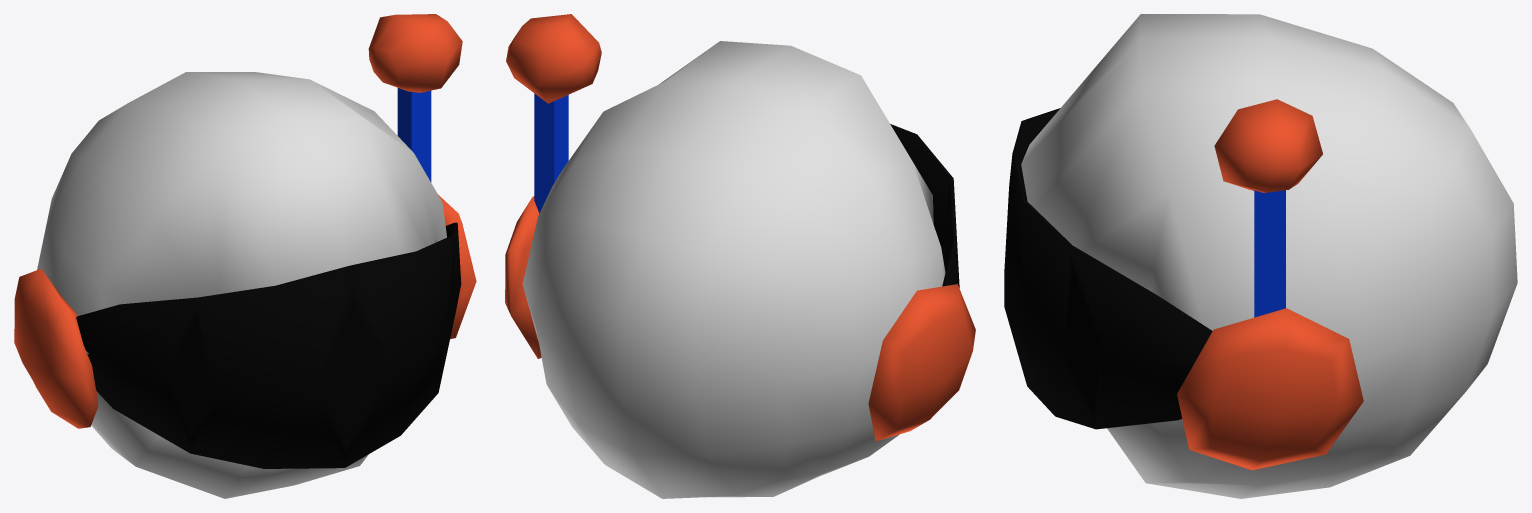
Rendered from astronauthelmet.glb.
The picture shows the model from 3 angles, left to right: view 1: azimuth 30°, elevation 25°; view 2: azimuth 150°, elevation 25°; view 3: azimuth 270°, elevation 25°; orthographic projection. The views are drawn at different scales.
Visible parts, largest first — view 1: Cube_005; view 2: Cube_005; view 3: Cube_005.
Boxes of the visible parts, box(x1,y1,x2,y2) form: Cube_005: box(14, 14, 476, 498); Cube_005: box(505, 14, 975, 498); Cube_005: box(1004, 14, 1517, 498).
Bounding box in the file's own units: 1.87 × 1.7 × 1.72.
